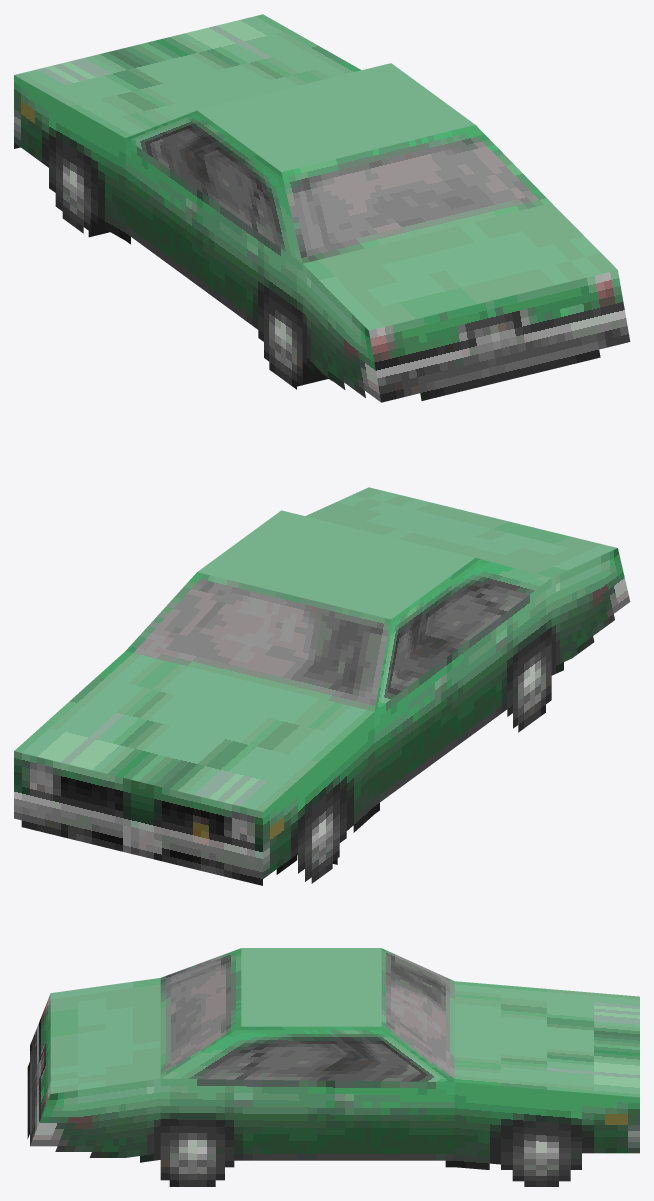
File: car-lemans.glb
3 views of the same model, one above another, from view 1: azimuth 30°, elevation 25°; view 2: azimuth 150°, elevation 25°; view 3: azimuth 270°, elevation 25° (orthographic). The views are drawn at different scales.
Parts seen in each view (by area): view 1: car-lemans; view 2: car-lemans; view 3: car-lemans.
Part boxes in pixels (x1,y1,x2,y2): car-lemans: [14, 14, 630, 402]; car-lemans: [14, 487, 630, 885]; car-lemans: [27, 948, 639, 1186].
Bounding box in the file's own units: 1.98 × 1.37 × 5.2.
16 materials, 16 textured.
